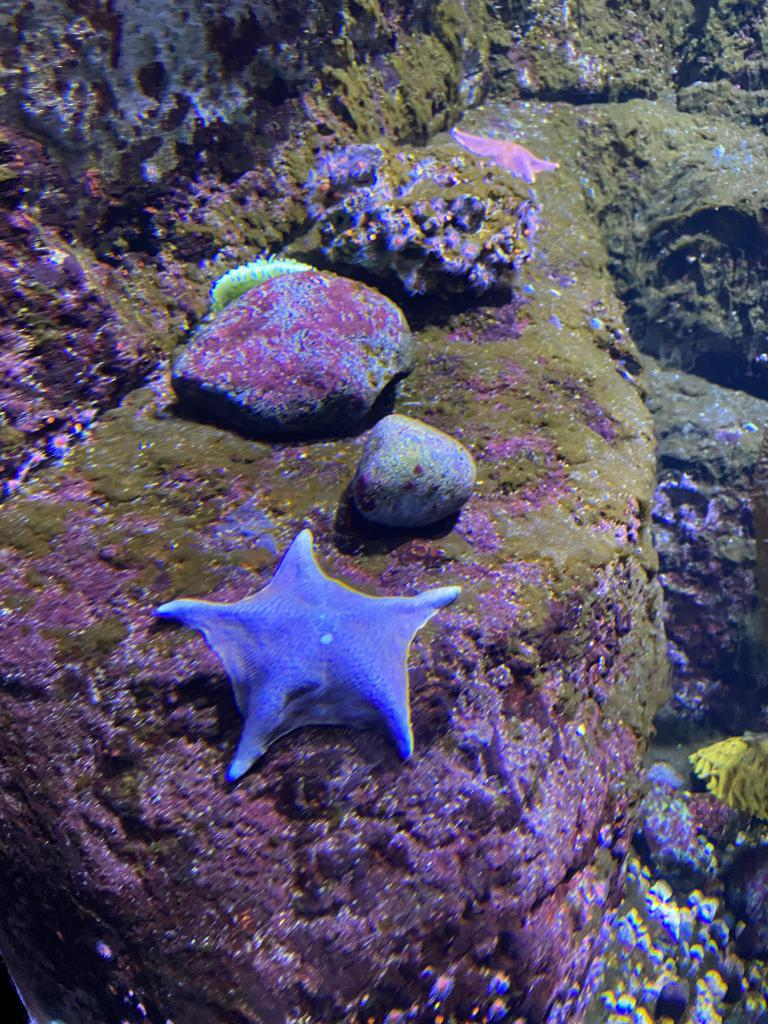starfish: (154, 530, 460, 778)
